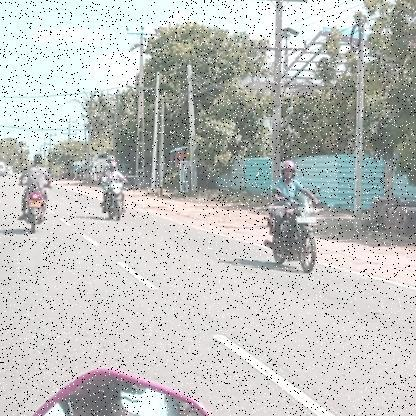motorcycle: (259, 194, 323, 278), (16, 188, 51, 236), (98, 180, 128, 224)
